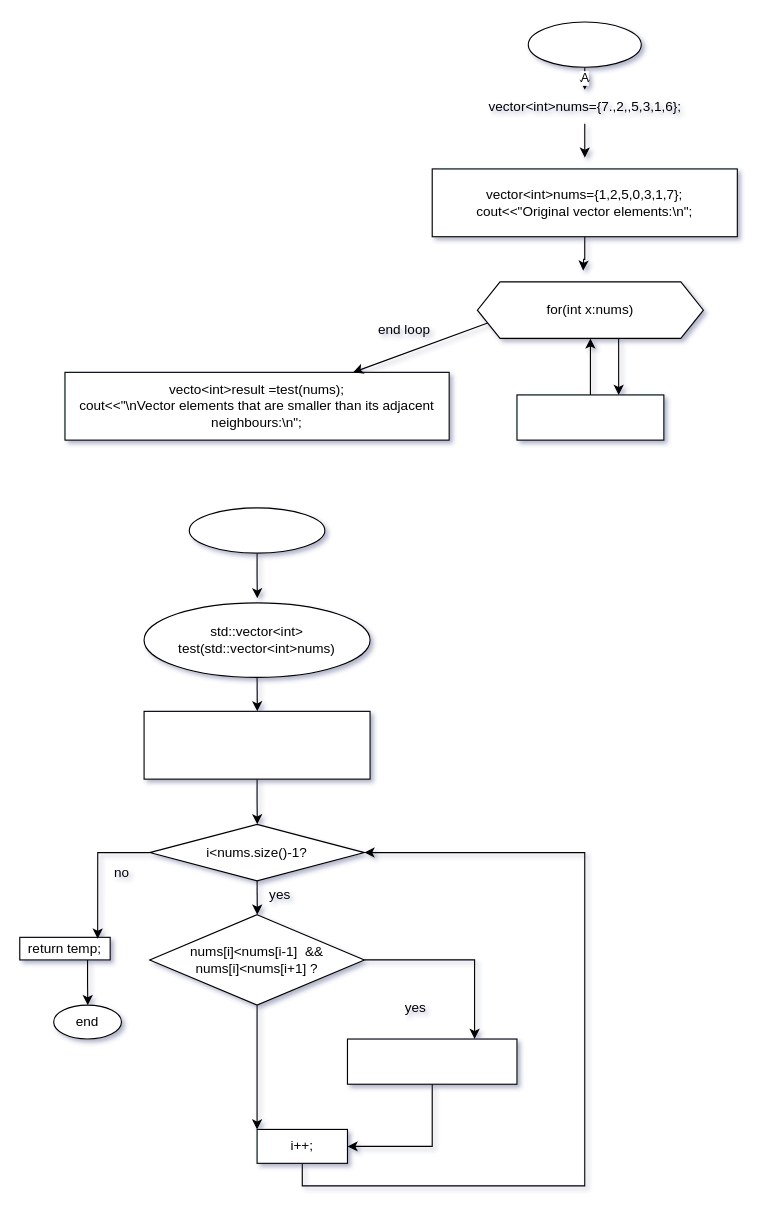
Some shapes in this 764 by 1222 pixel diagram are drawn without their labels. Each missing label, with the box of its shape:
cout<<x<<" ";: (516, 394, 664, 440)
int main(): (527, 21, 641, 67)
loop: (188, 507, 325, 553)
std::vector<int>temp; int i=1;: (143, 710, 370, 779)
temp.push_back(nums[i]);: (346, 1038, 517, 1084)
